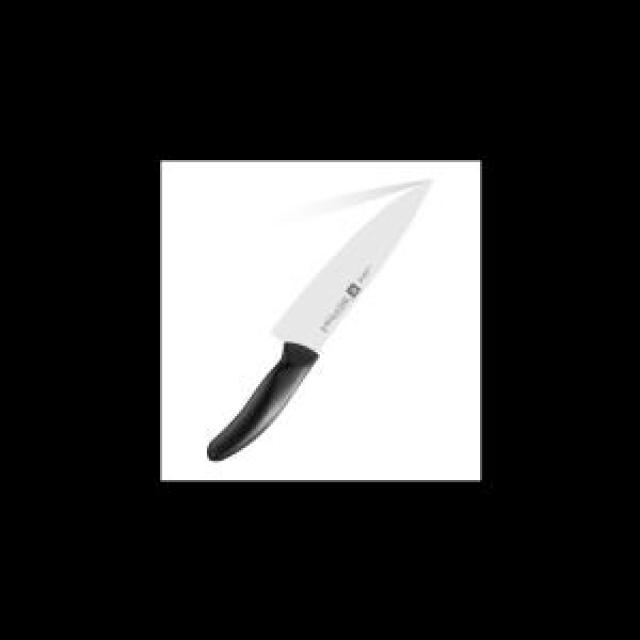knife: (202, 177, 442, 466)
